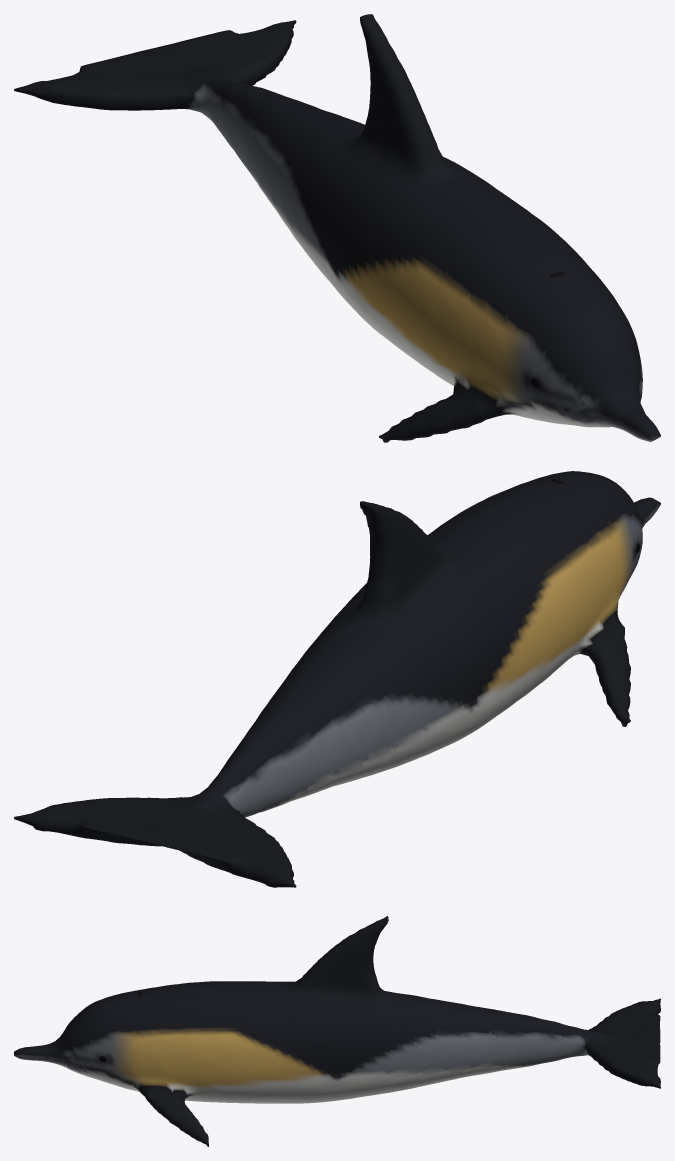
The model's file is CommonDolphin.fbx.
3 views of the same model, one above another, from view 1: azimuth 30°, elevation 25°; view 2: azimuth 150°, elevation 25°; view 3: azimuth 270°, elevation 25° (orthographic). The views are drawn at different scales.
Visible parts, largest first — view 1: CommonDolphin; view 2: CommonDolphin; view 3: CommonDolphin.
Part boxes in pixels (x1=…): CommonDolphin: x1=14, y1=14, x2=660, y2=442; CommonDolphin: x1=14, y1=471, x2=660, y2=887; CommonDolphin: x1=14, y1=916, x2=660, y2=1146.
Bounding box in the file's own units: 0.6398 × 0.6442 × 1.97.
